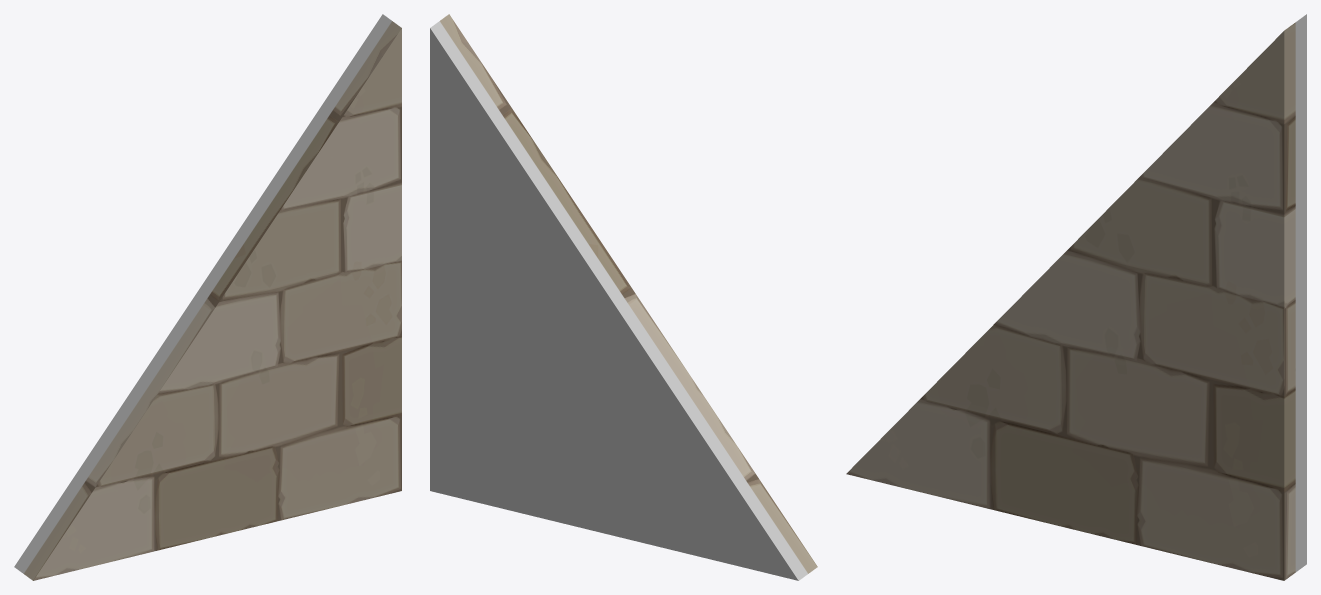
File: SM_Bld_Wall_End_Straight_01.fbx
3 renders of one model, left to right at view 1: azimuth 30°, elevation 25°; view 2: azimuth 150°, elevation 25°; view 3: azimuth 330°, elevation 25°, orthographic. The views are drawn at different scales.
Visible parts, largest first — view 1: SM_Bld_Wall_End_Straight_01; view 2: SM_Bld_Wall_End_Straight_01; view 3: SM_Bld_Wall_End_Straight_01.
Boxes of the visible parts, x1=… form: SM_Bld_Wall_End_Straight_01: x1=14, y1=14, x2=401, y2=580; SM_Bld_Wall_End_Straight_01: x1=430, y1=14, x2=817, y2=580; SM_Bld_Wall_End_Straight_01: x1=846, y1=14, x2=1306, y2=580.
Bounding box in the file's own units: 250 × 300 × 22.5.
